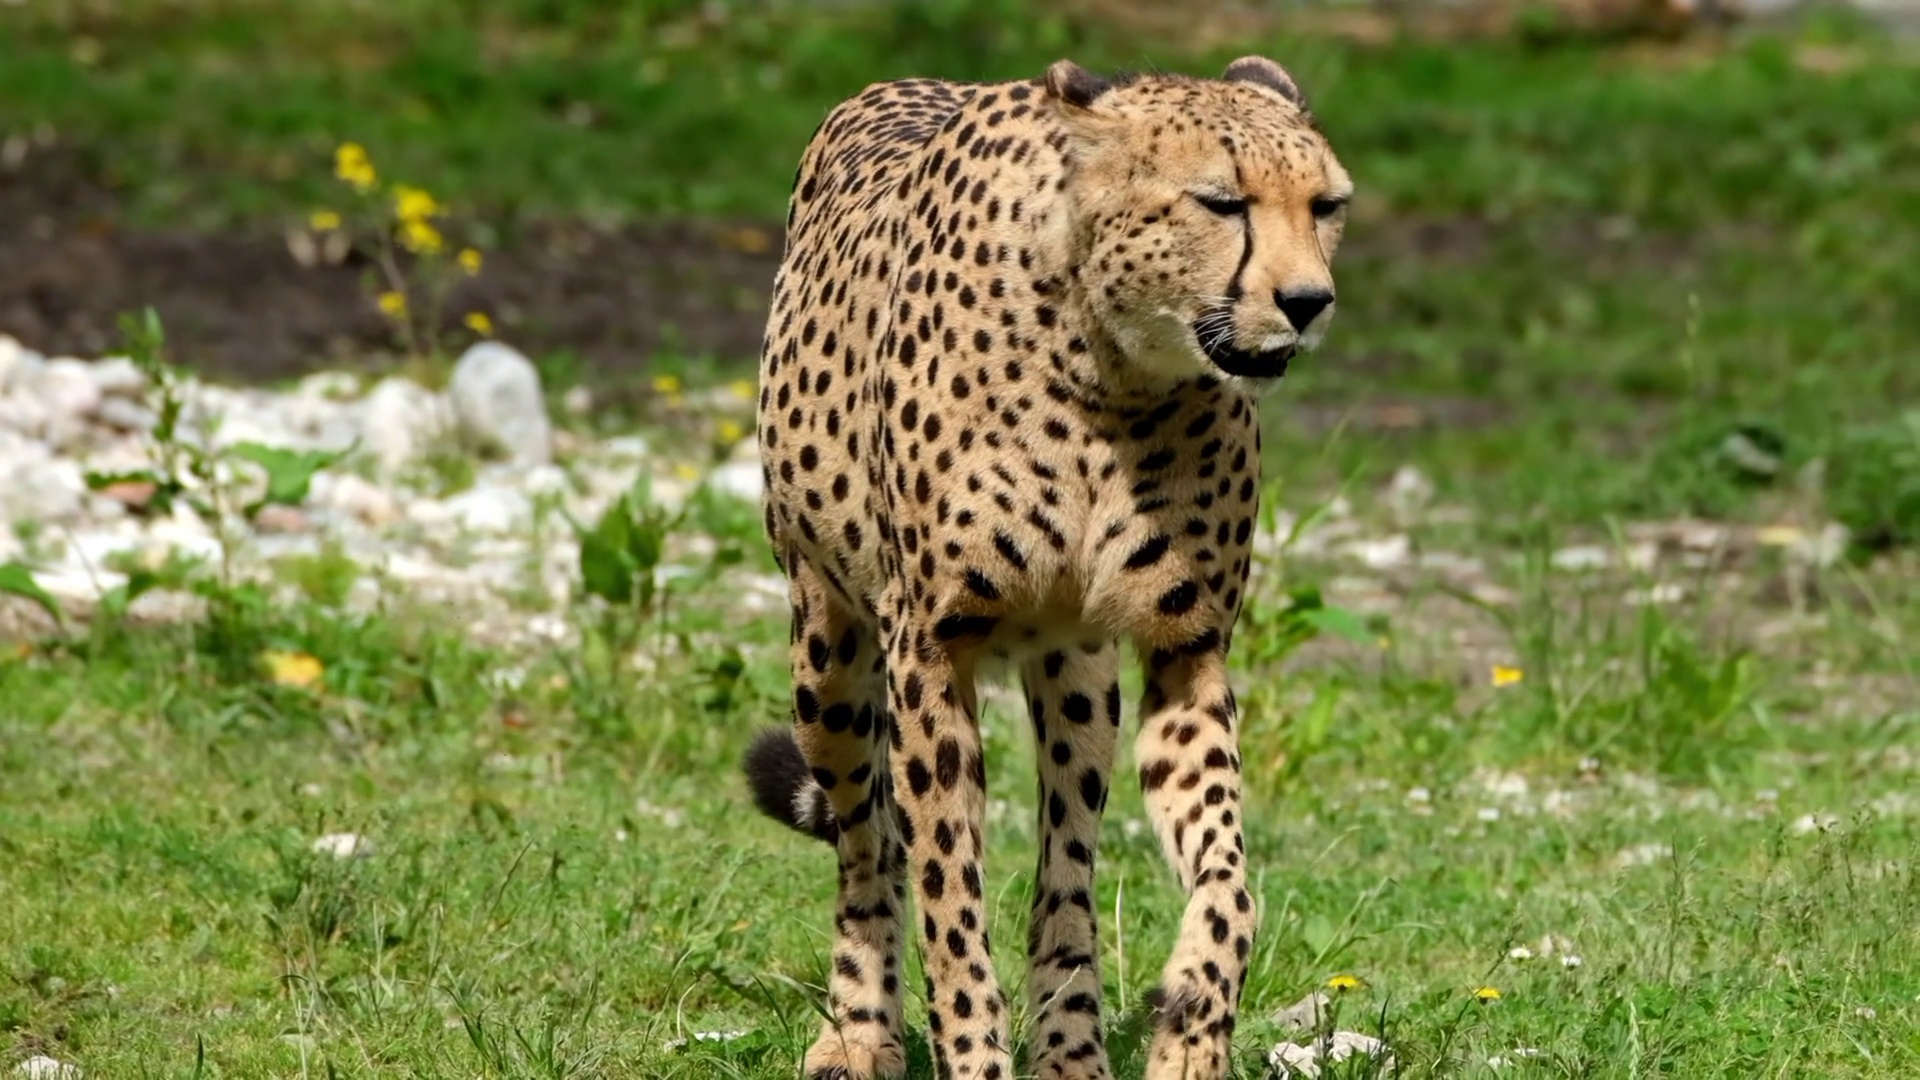Cheetah: (741, 54, 1357, 1080)
